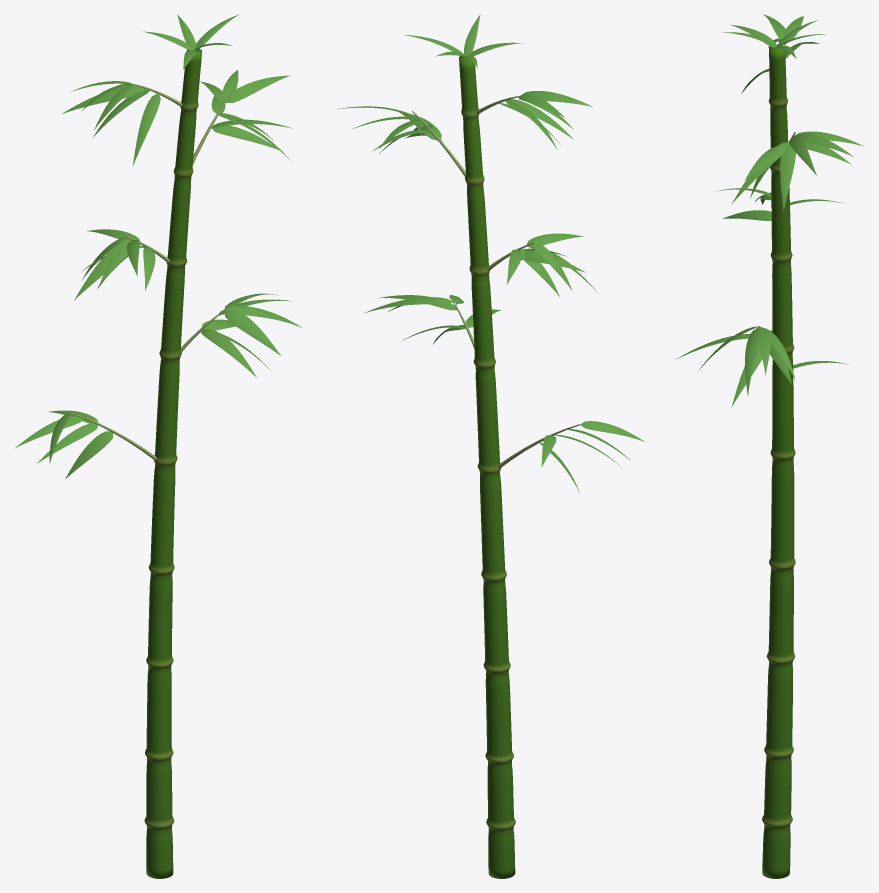
The model's file is BambooGrowblend.fbx.
The picture shows the model from 3 angles, left to right: view 1: azimuth 30°, elevation 25°; view 2: azimuth 150°, elevation 25°; view 3: azimuth 270°, elevation 25°; orthographic projection. The views are drawn at different scales.
Visible parts, largest first — view 1: Bamboo_Stalk, Bamboo_Leaves, Bamboo_Branches; view 2: Bamboo_Stalk, Bamboo_Leaves, Bamboo_Branches; view 3: Bamboo_Stalk, Bamboo_Leaves.
Part boxes in pixels (x1=…): Bamboo_Stalk: x1=144, y1=49, x2=202, y2=878; Bamboo_Leaves: x1=14, y1=14, x2=301, y2=478; Bamboo_Branches: x1=69, y1=84, x2=232, y2=460; Bamboo_Stalk: x1=459, y1=54, x2=515, y2=878; Bamboo_Leaves: x1=335, y1=14, x2=644, y2=492; Bamboo_Branches: x1=412, y1=96, x2=579, y2=468; Bamboo_Stalk: x1=762, y1=45, x2=795, y2=878; Bamboo_Leaves: x1=676, y1=14, x2=863, y2=407.
Size of the model in its own units: 1.12 by 3.08 by 0.6157.
